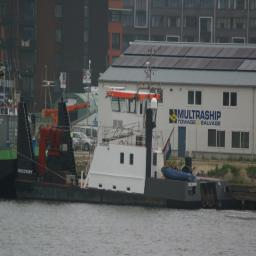tugboat: (80, 85, 238, 213)
